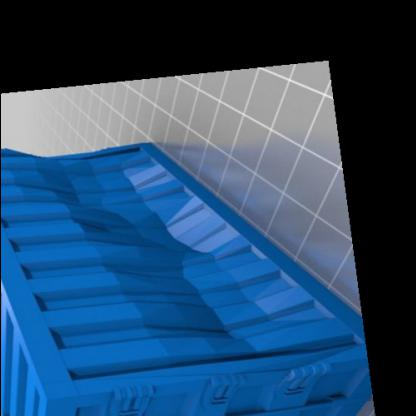Damage: (49, 162, 235, 325)
